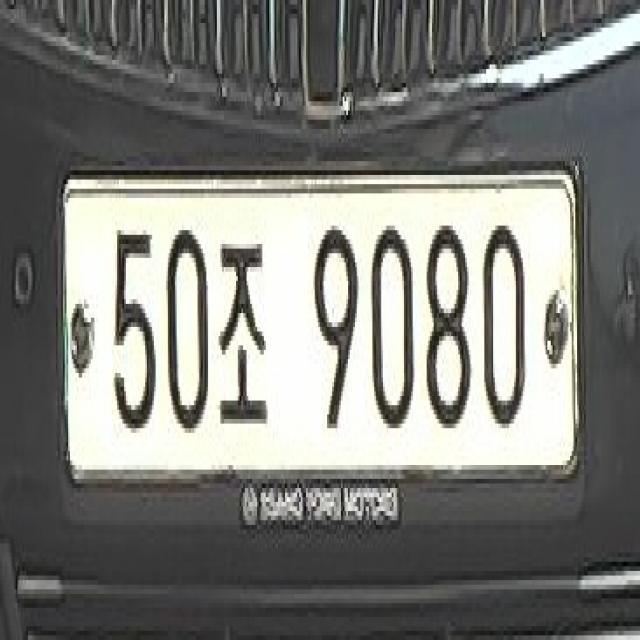0: (370, 194, 420, 448), (163, 205, 213, 453), (482, 215, 534, 444)
5: (112, 216, 156, 444)
8: (427, 210, 477, 452)
9: (310, 216, 360, 444)
jo: (218, 223, 280, 452)
license_plate: (54, 157, 590, 510)
